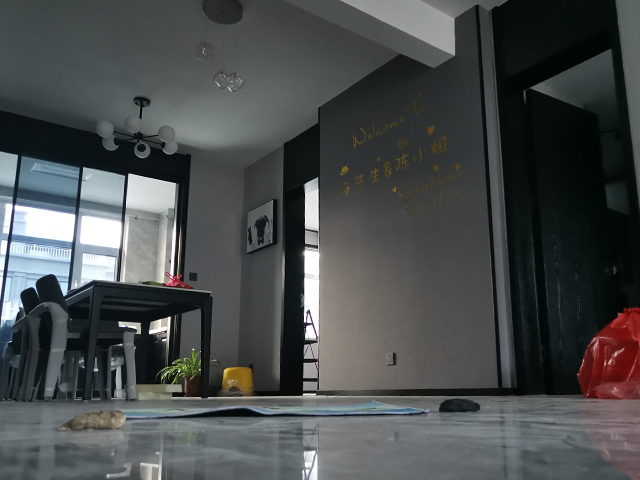carpet: (121, 400, 430, 422)
feces: (57, 409, 126, 433), (436, 395, 482, 414)
stool: (1, 272, 140, 406), (220, 365, 254, 397)
table: (61, 278, 215, 400)
